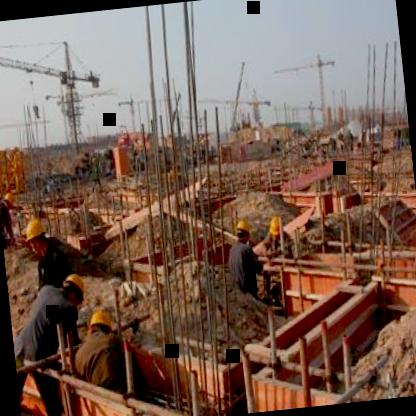helmet: (55, 267, 91, 308), (22, 212, 54, 258), (84, 305, 116, 347), (231, 212, 254, 246), (264, 210, 286, 240), (0, 188, 18, 212)
